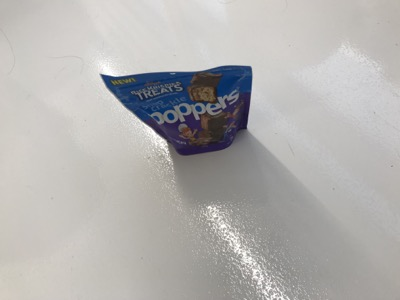rice krispies: (102, 65, 254, 156)
